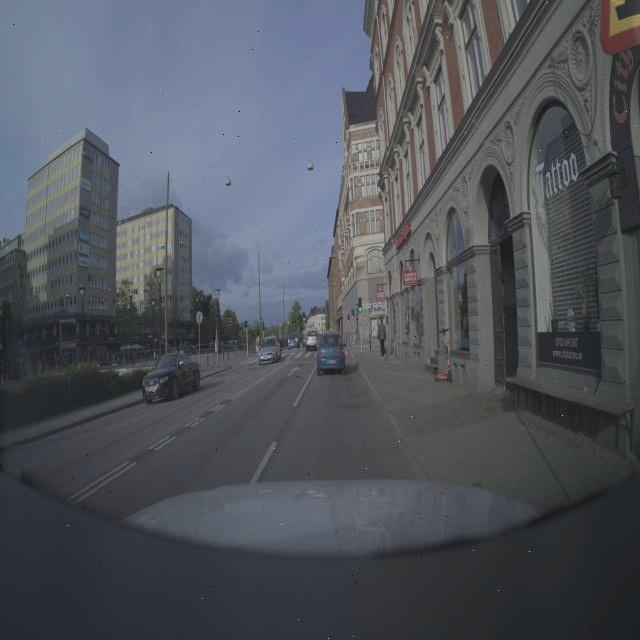Green: (351, 294, 368, 324)
